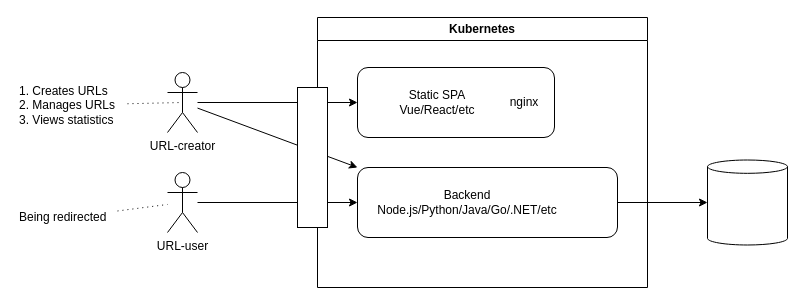
Image size: 805x305. Some labels were removed from this diagram. Here are the shapes that lost their labels. From the top down, the centre of each, then its label:
point 312,157: ingress
point 747,202: MongoDB
